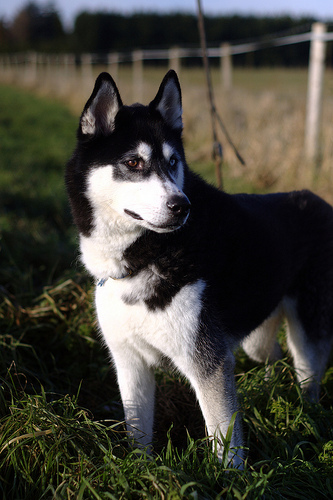dog: (63, 62, 331, 485)
